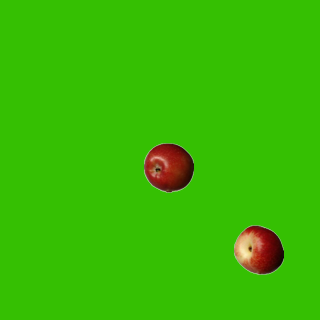Apple Braeburn: (143, 142, 193, 192)
Nectarine: (233, 224, 283, 274)
